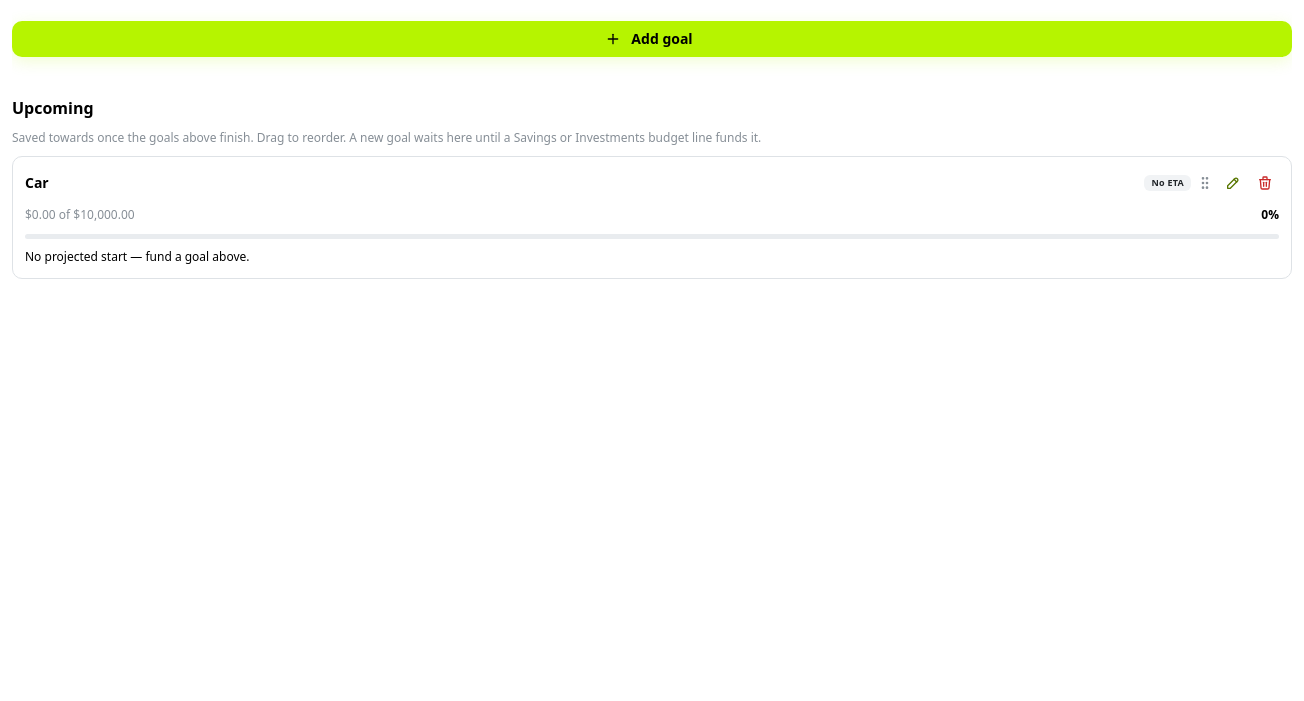
GoalList › saves an inline edit and closes the form
Click the button named "edit" at point(1233, 184), box [1219,170,1247,198]
(page scrolled)
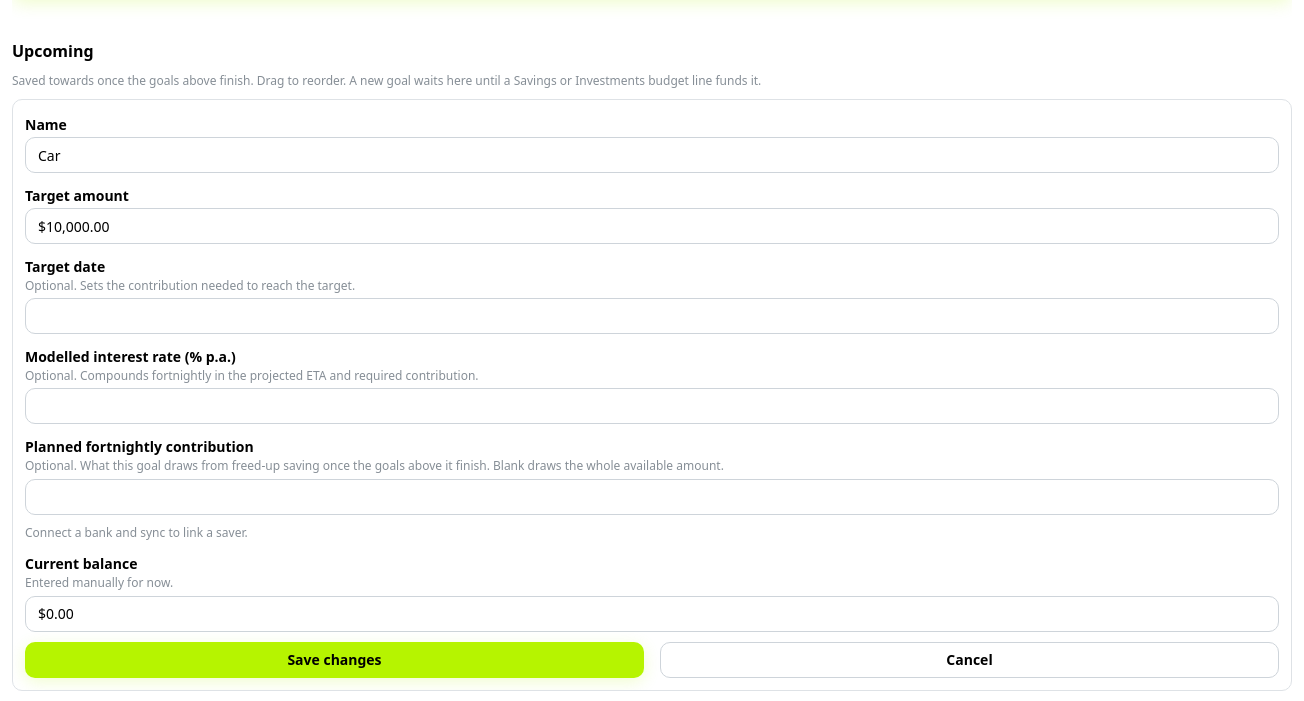
Click the button "Save changes" at point(334, 660), box [25,642,644,678]
(page scrolled)
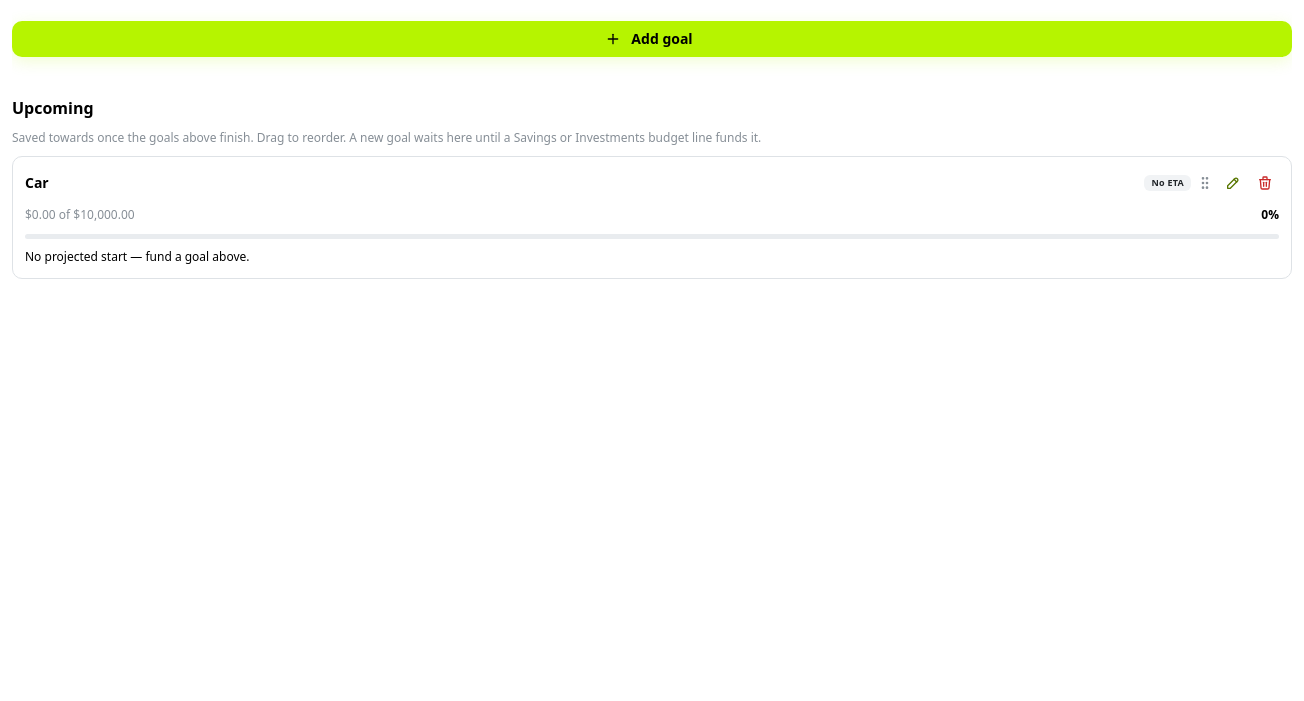
Now the button "Save changes" is gone
